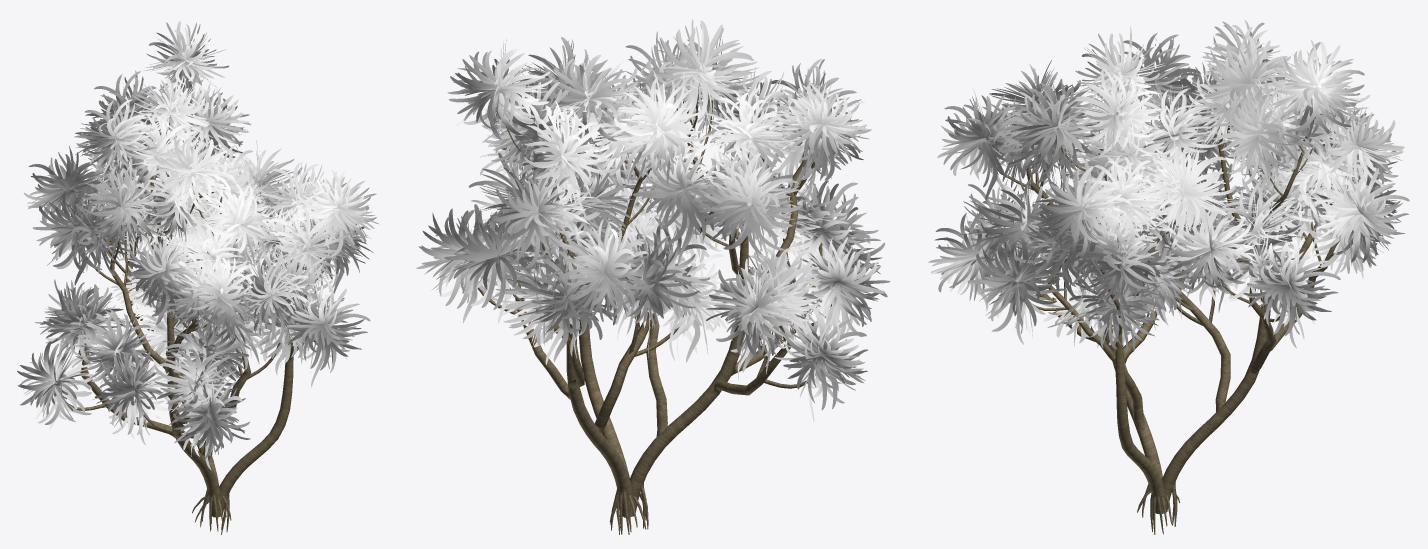
The model's file is Pandanace3.fbx.
The picture shows the model from 3 angles, left to right: view 1: azimuth 30°, elevation 25°; view 2: azimuth 150°, elevation 25°; view 3: azimuth 270°, elevation 25°; orthographic projection. The views are drawn at different scales.
Visible parts, largest first — view 1: Pandanace3_LOD0; view 2: Pandanace3_LOD0; view 3: Pandanace3_LOD0.
Boxes of the visible parts, x1,y1,x2,y2 form: Pandanace3_LOD0: (17,21,379,534); Pandanace3_LOD0: (416,19,890,534); Pandanace3_LOD0: (928,20,1409,534).
Size of what is drawn, in the model's own units: 1005 by 1292 by 1114.
